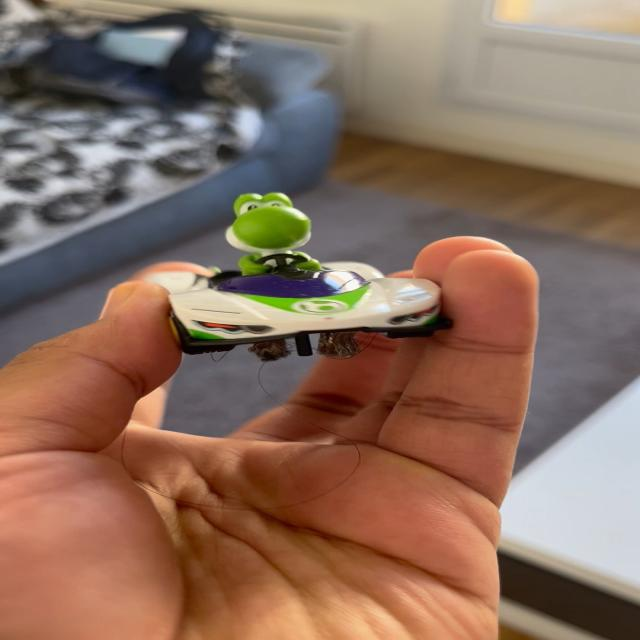yoshi: (148, 180, 460, 347)
